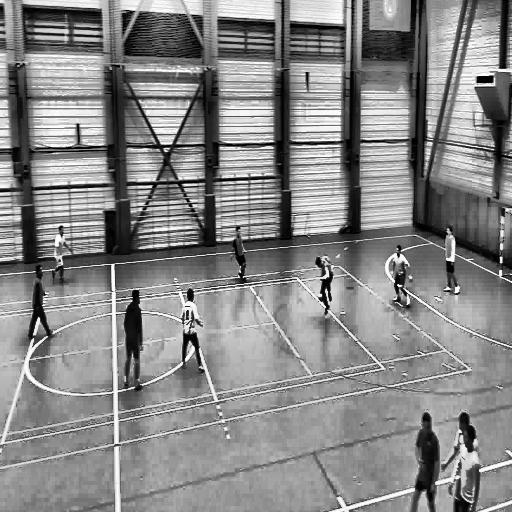ball: (317, 291, 325, 306)
player: (315, 254, 332, 317)
